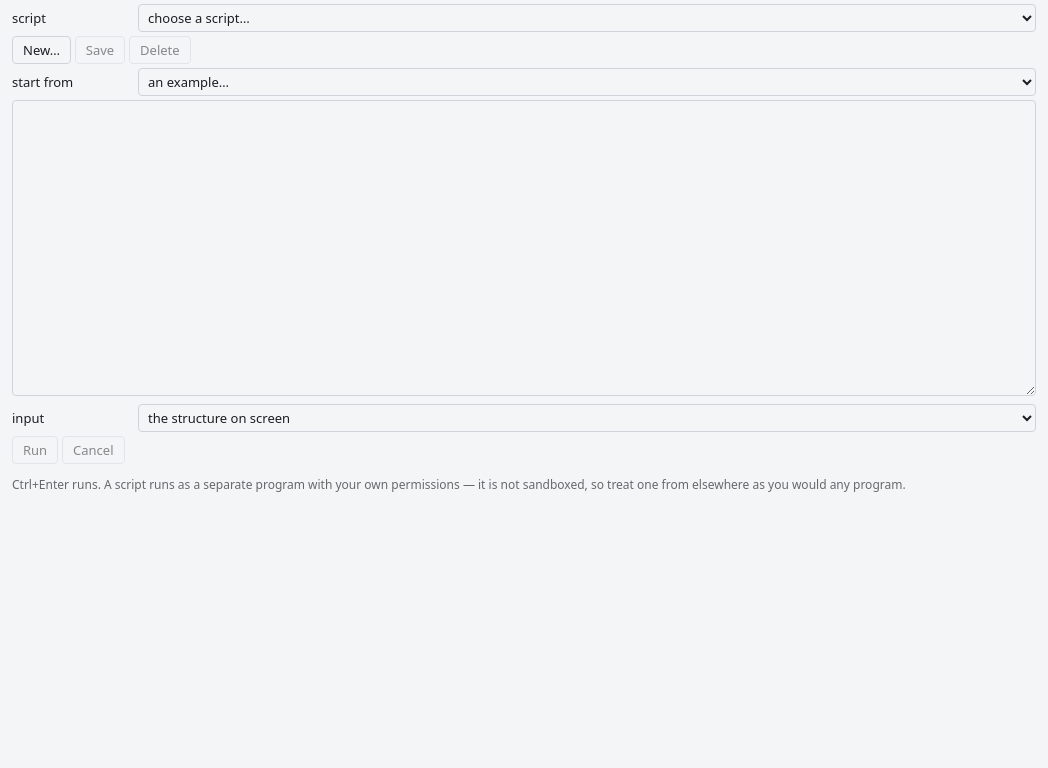
Scenario: running stores the script, saves the structure on screen and passes its id
Select "demo.py" in the dropdown labelled "script". click: (587, 18)
box: [138,4,1036,32]
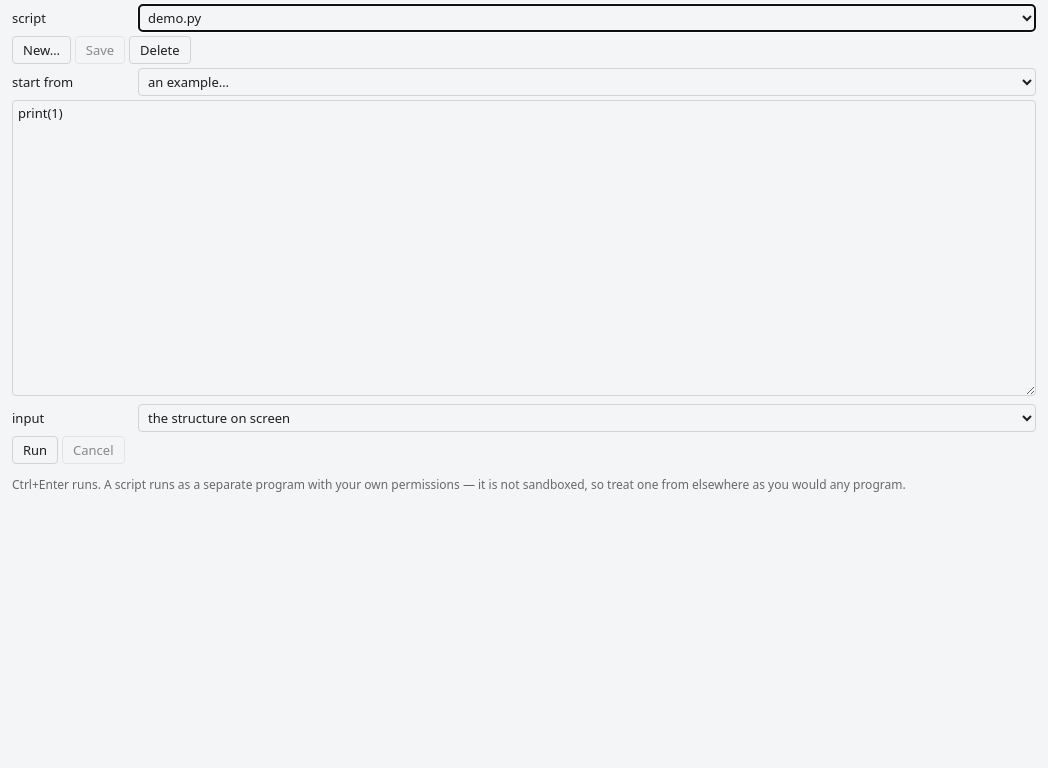
Click the button "Run". click: (35, 450)
box: [12,436,58,464]
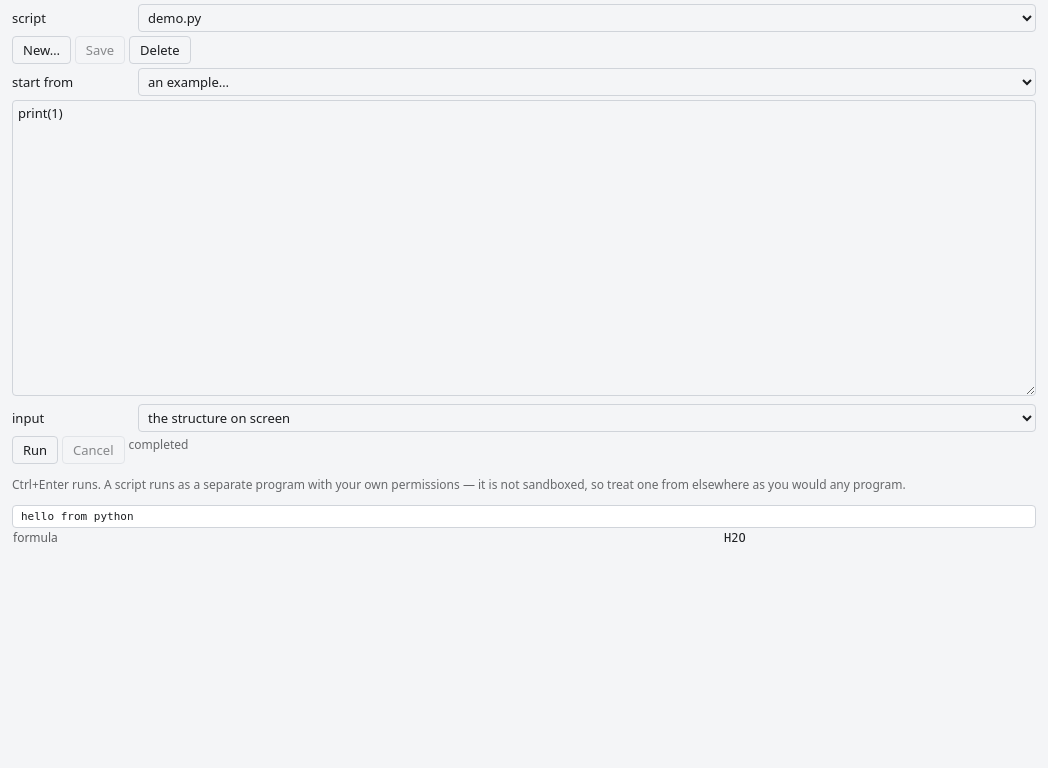
Expected: the text "hello from python" is shown, [21,510,134,523]
Expected: the column heading "formula" is shown, [12,528,723,547]
Expected: the text "H2O" is shown, [723,528,1036,547]
